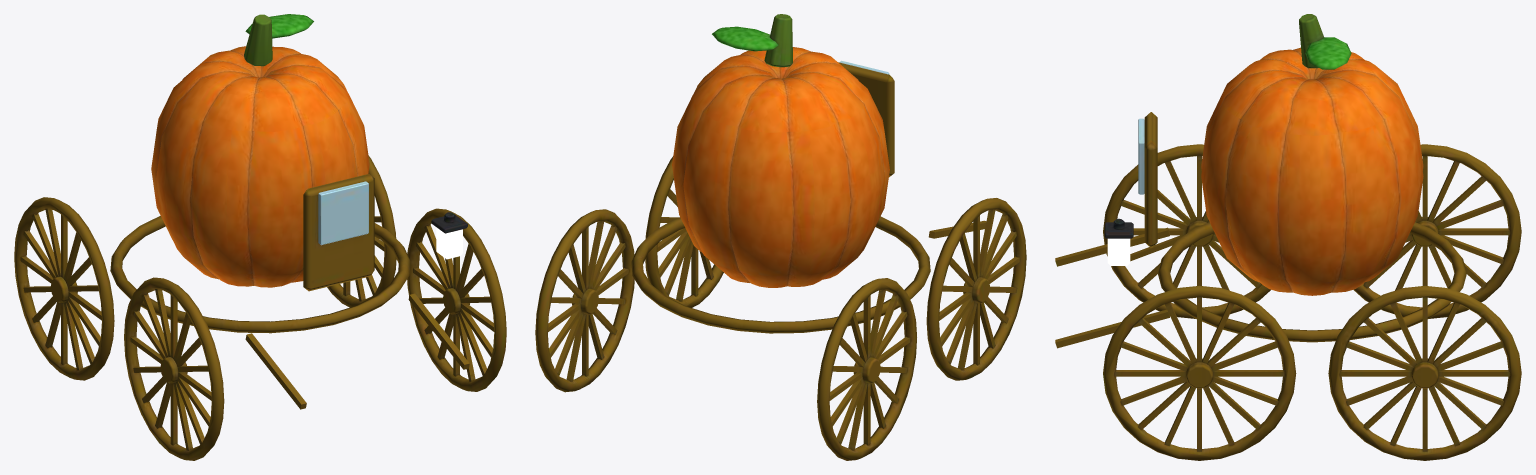
File: pumpkin_carriage.glb
3 renders of one model, left to right at view 1: azimuth 30°, elevation 25°; view 2: azimuth 150°, elevation 25°; view 3: azimuth 270°, elevation 25°, orthographic. The views are drawn at different scales.
Visible parts, largest first — view 1: pumpkin_carriage; view 2: pumpkin_carriage; view 3: pumpkin_carriage.
Part boxes in pixels (x1=…): pumpkin_carriage: x1=14, y1=14, x2=506, y2=460; pumpkin_carriage: x1=535, y1=14, x2=1026, y2=460; pumpkin_carriage: x1=1055, y1=14, x2=1521, y2=460.
Size of the model in its own units: 1.1 by 1.28 by 1.45.
Materials: 1 (1 with a texture image).
